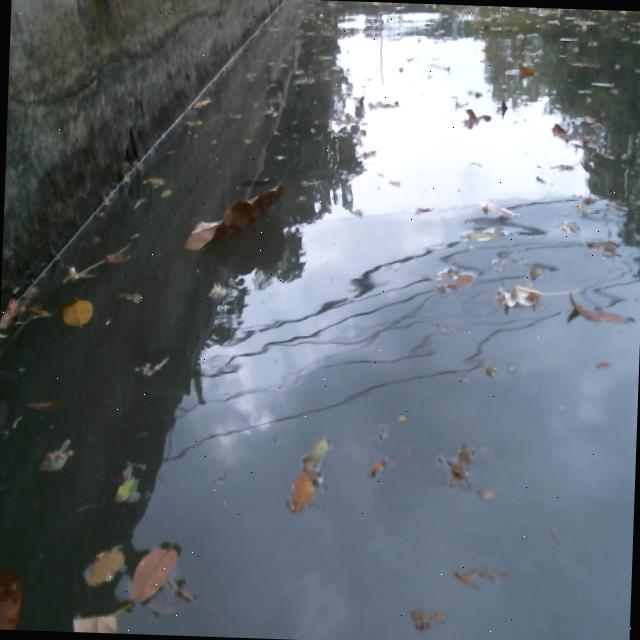Big-leaf: (178, 172, 288, 260)
Small-leaf: (124, 541, 181, 608), (560, 290, 634, 328), (77, 540, 132, 588), (448, 560, 513, 591), (491, 276, 543, 313), (0, 569, 28, 630), (58, 290, 98, 332), (34, 441, 79, 476), (0, 277, 44, 312), (71, 604, 121, 633), (285, 468, 319, 510), (460, 221, 512, 247), (304, 429, 337, 469), (132, 346, 172, 379), (474, 195, 524, 221), (112, 475, 139, 505), (25, 392, 58, 416), (461, 104, 490, 131), (364, 452, 392, 479), (367, 93, 403, 112), (550, 118, 575, 144), (102, 248, 133, 268), (191, 91, 217, 112), (443, 268, 479, 283), (546, 157, 577, 174), (515, 60, 538, 80), (560, 218, 581, 239), (141, 173, 166, 190), (118, 288, 143, 304), (462, 486, 498, 496), (159, 178, 173, 202), (184, 114, 206, 129)
